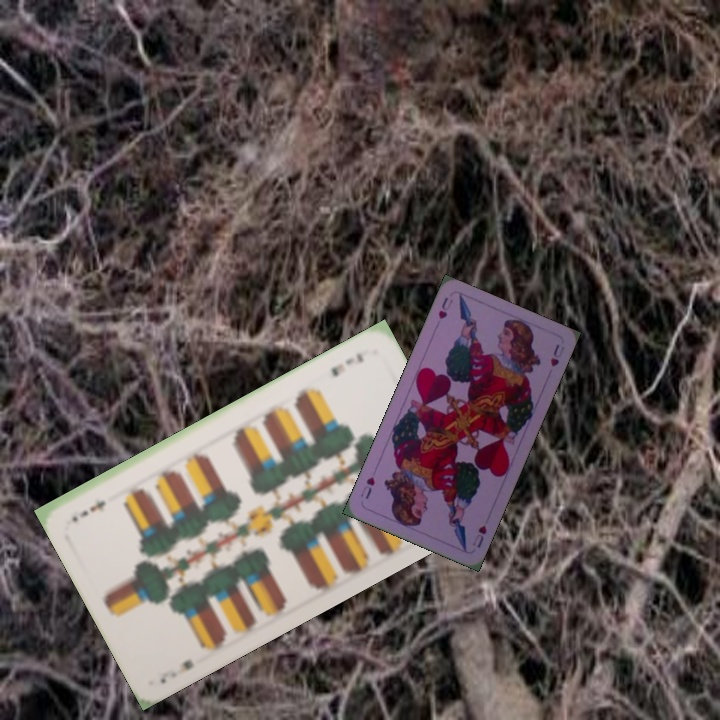E7: (155, 655, 196, 686), (327, 349, 367, 380)
HU: (468, 521, 489, 550), (434, 293, 455, 322)
